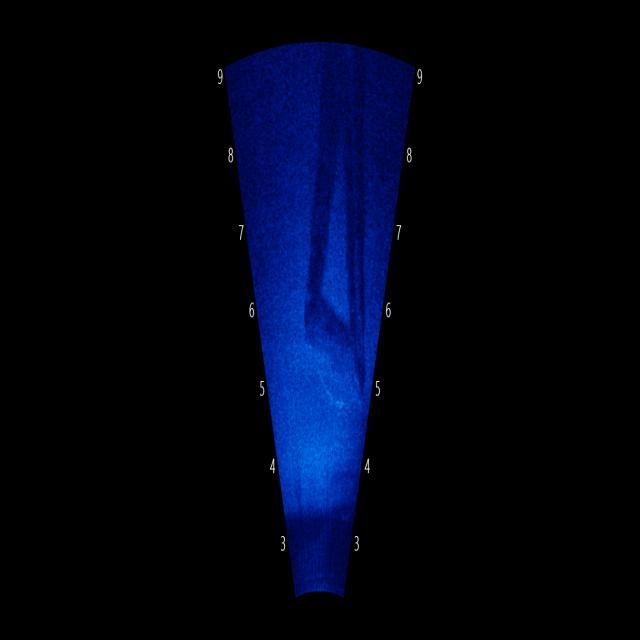triangle: (289, 46, 373, 440)
